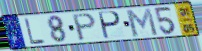5: (153, 5, 177, 36)
8: (46, 14, 69, 44)
L: (23, 17, 47, 45)
M: (124, 7, 160, 38)
P: (71, 12, 98, 43), (98, 11, 123, 41)
